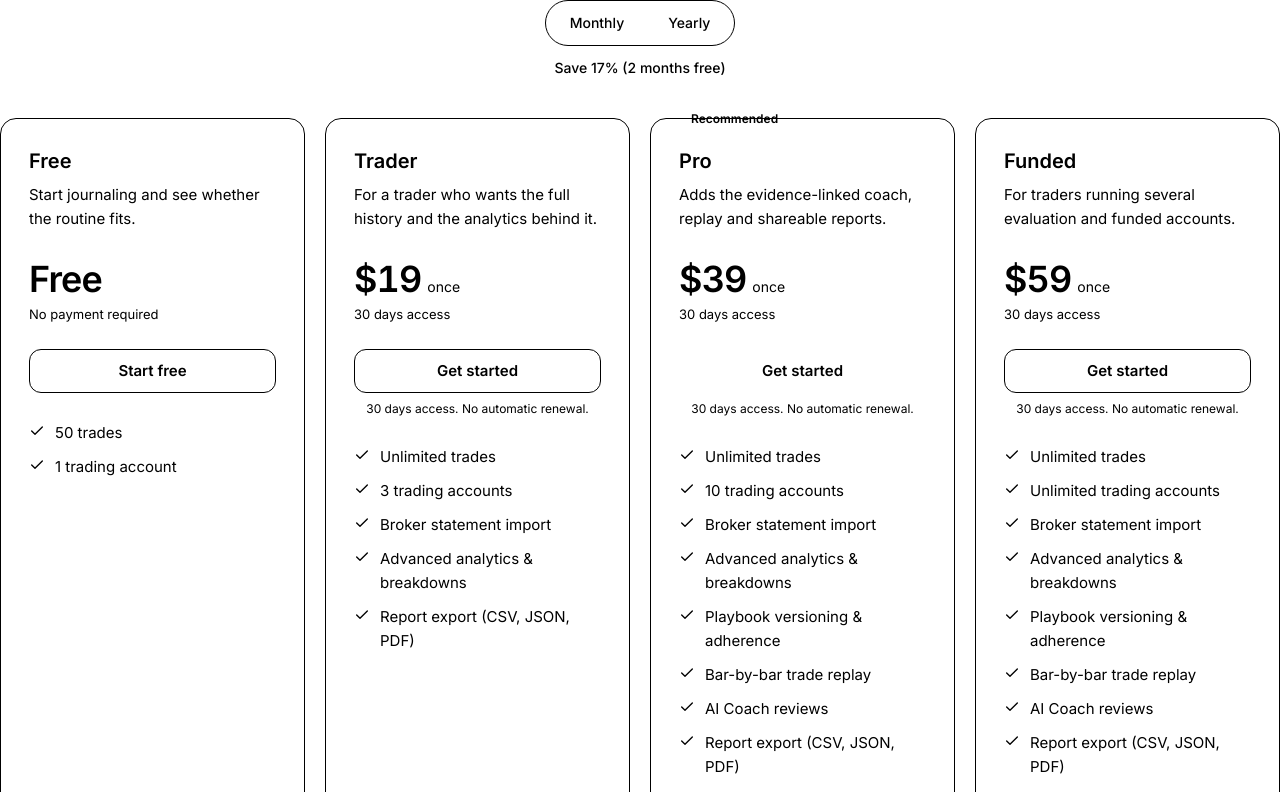
it: yearly view › shows the honest monthly equivalent and the real annual total
The image size is (1280, 792).
Click the button "Yearly" at (689, 23), box [648,5,730,41]
(page scrolled)
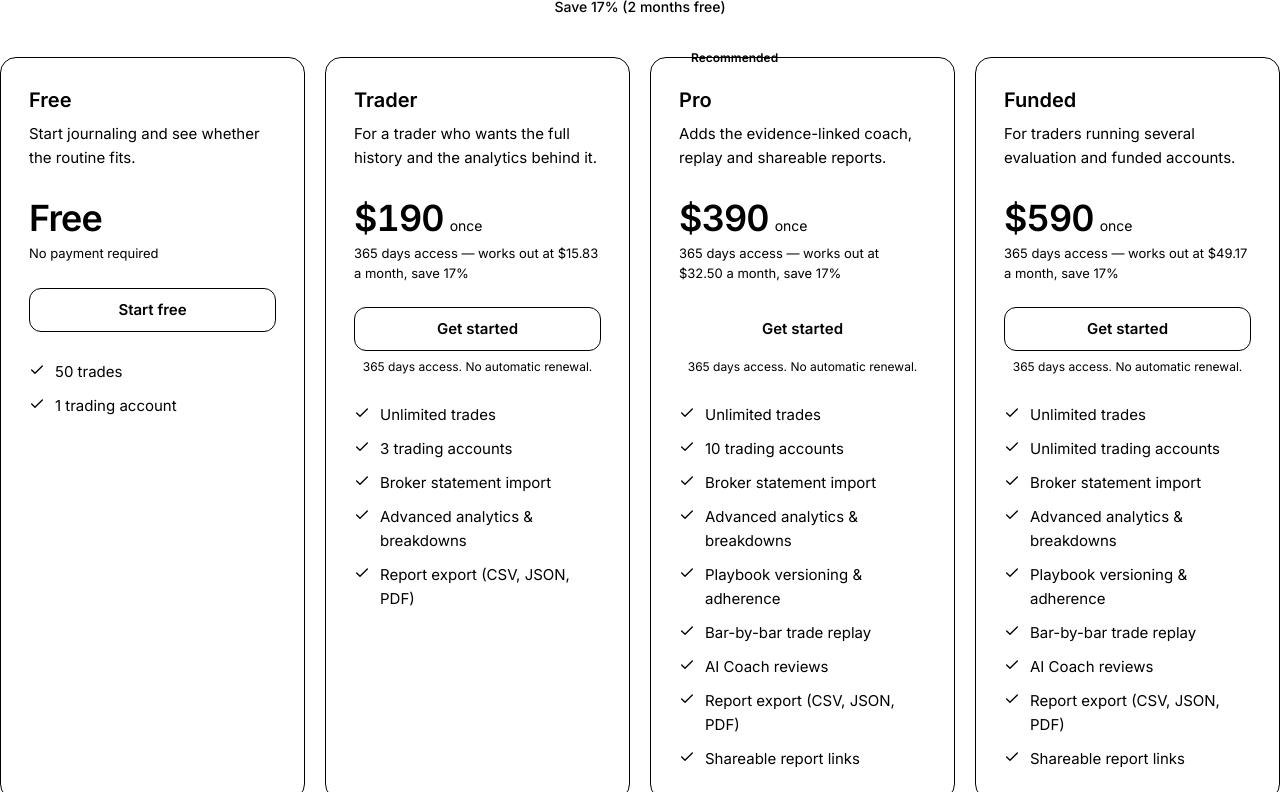
Expected: the element "Pro" shows "No automatic renewal", [784,359,917,374]
Result: the element "Pro" shows "365 days access" at [688,359,784,374]
Result: the element "Pro" shows "$32.50" at [679,264,723,280]
